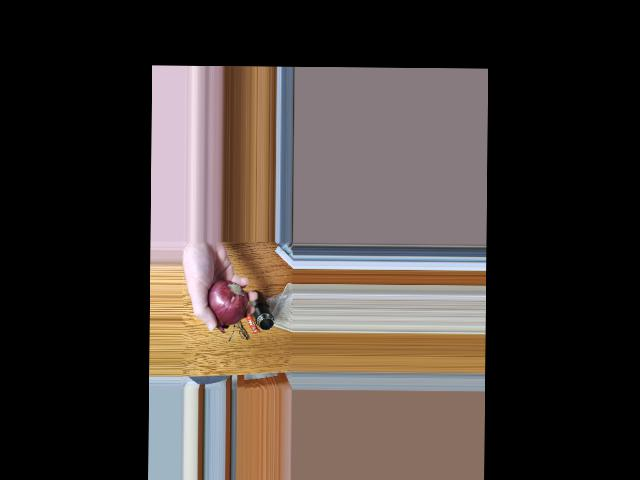onion: (212, 290, 245, 324)
